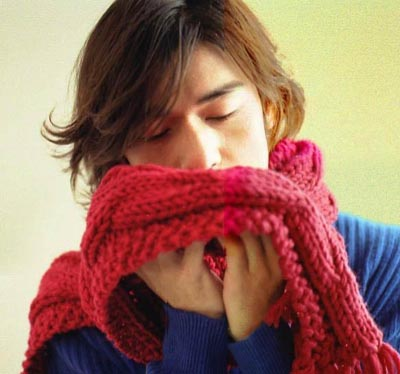face_mask: (113, 41, 266, 229)
